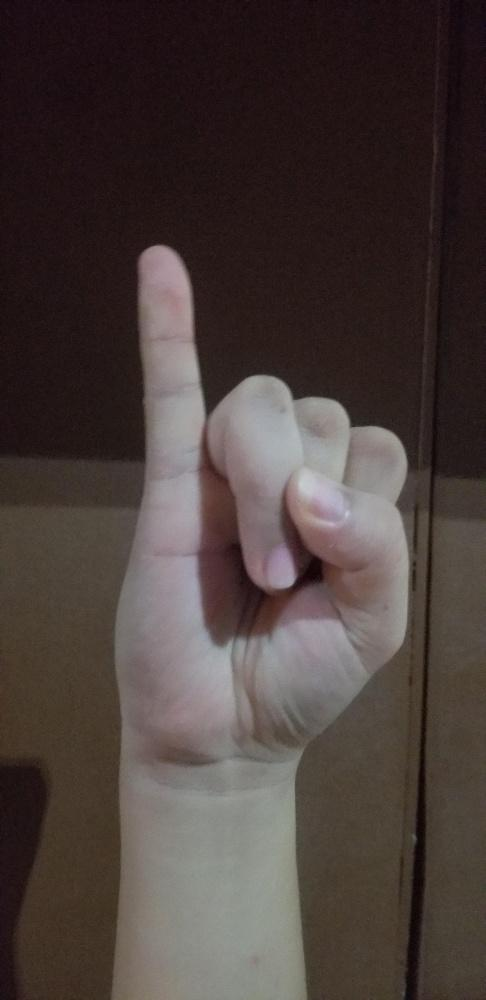i: (111, 243, 413, 751)
